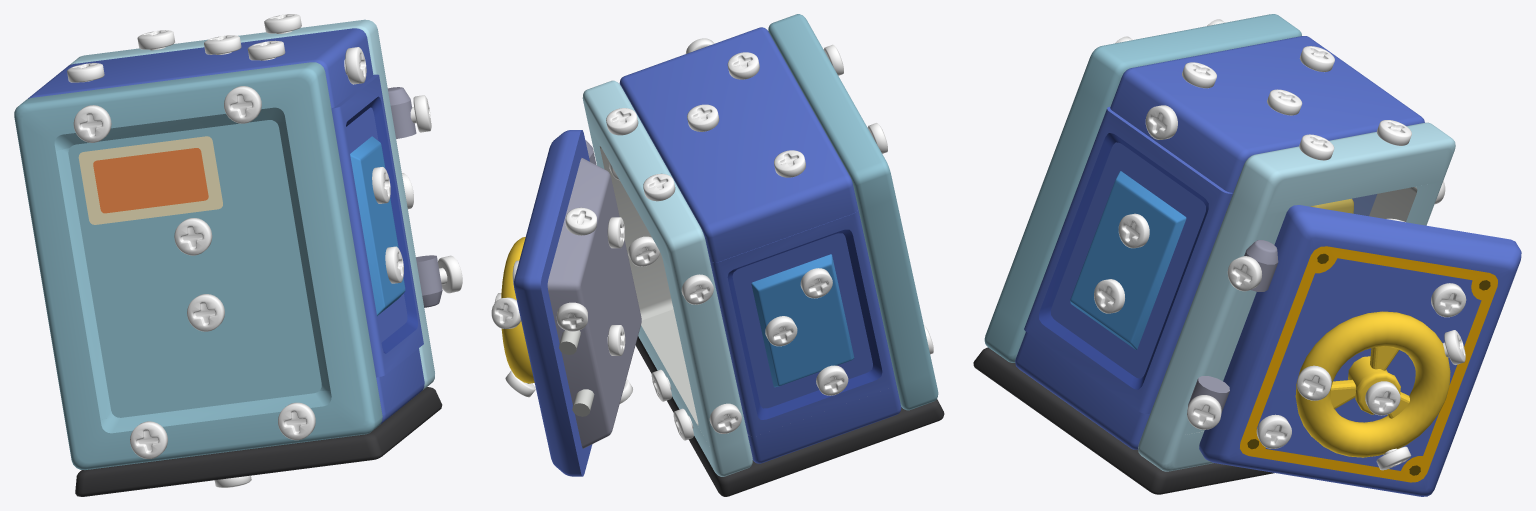
The model's file is CashBox_GroupE.fbx.
3 renders of one model, left to right at view 1: azimuth 30°, elevation 25°; view 2: azimuth 150°, elevation 25°; view 3: azimuth 270°, elevation 25°, orthographic. The views are drawn at different scales.
Visible parts, largest first — view 1: CashBox_026, CashBox_018, CashBox_013, Screw (×16), CashBox_025, CashBox_017, CashBox_023, CashBox_020, CashBox_007, CashBox_024, CashBox_019, CashBox_021; view 2: CashBox_023, CashBox_012, CashBox_006, CashBox_007, Screw (×16), CashBox_020, CashBox_018, CashBox_026, CashBox_022, CashBox_017, CashBox_024, CashBox_021 (+3 smaller); view 3: CashBox_007, CashBox_013, CashBox_023, CashBox_011, Screw (×15), CashBox_020, CashBox_019, CashBox_026, CashBox_017, CashBox_018, CashBox_024, CashBox_021 (+2 smaller).
Part boxes in pixels (left/top/right/bottom): CashBox_026: left=20, top=110, right=376, bottom=424; CashBox_018: left=14, top=62, right=331, bottom=154; CashBox_013: left=331, top=74, right=423, bottom=377; Screw (×16): left=67, top=14, right=462, bottom=458; CashBox_025: left=65, top=379, right=382, bottom=469; CashBox_017: left=75, top=387, right=442, bottom=496; CashBox_023: left=28, top=28, right=373, bottom=108; CashBox_020: left=70, top=19, right=383, bottom=74; CashBox_007: left=387, top=87, right=442, bottom=307; CashBox_024: left=376, top=348, right=424, bottom=424; CashBox_019: left=373, top=67, right=428, bottom=340; CashBox_021: left=419, top=337, right=434, bottom=389; CashBox_023: left=619, top=27, right=858, bottom=262; CashBox_012: left=710, top=209, right=895, bottom=436; CashBox_006: left=547, top=158, right=641, bottom=448; CashBox_007: left=513, top=130, right=596, bottom=476; Screw (×16): left=491, top=52, right=848, bottom=433; CashBox_020: left=582, top=80, right=709, bottom=275; CashBox_018: left=768, top=14, right=895, bottom=209; CashBox_026: left=858, top=196, right=933, bottom=383; CashBox_022: left=660, top=252, right=747, bottom=449; CashBox_017: left=635, top=336, right=944, bottom=496; CashBox_024: left=747, top=383, right=901, bottom=463; CashBox_021: left=638, top=309, right=752, bottom=476; CashBox_007: left=1188, top=205, right=1521, bottom=496; CashBox_013: left=1024, top=106, right=1232, bottom=413; CashBox_023: left=1110, top=36, right=1424, bottom=192; CashBox_011: left=1295, top=311, right=1450, bottom=457; Screw (×15): left=1094, top=46, right=1466, bottom=448; CashBox_020: left=1232, top=122, right=1455, bottom=214; CashBox_019: left=1149, top=195, right=1287, bottom=435; CashBox_026: left=996, top=86, right=1110, bottom=326; CashBox_017: left=973, top=347, right=1274, bottom=494; CashBox_018: left=1079, top=14, right=1301, bottom=106; CashBox_024: left=1015, top=332, right=1149, bottom=449; CashBox_021: left=1138, top=415, right=1213, bottom=471.
Size of the model in its own units: 9.19 by 9.73 by 11.24.
3 materials, 2 textured.
